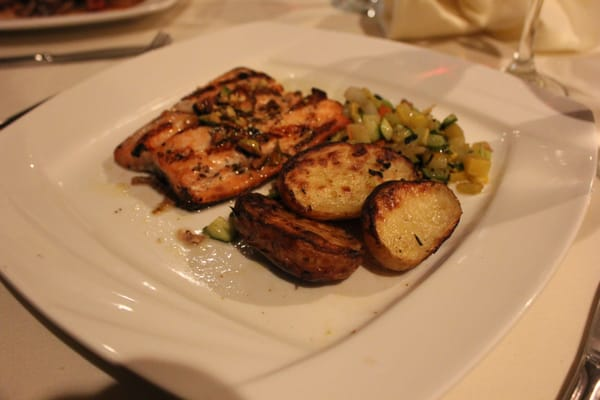curry: (11, 0, 600, 396)
